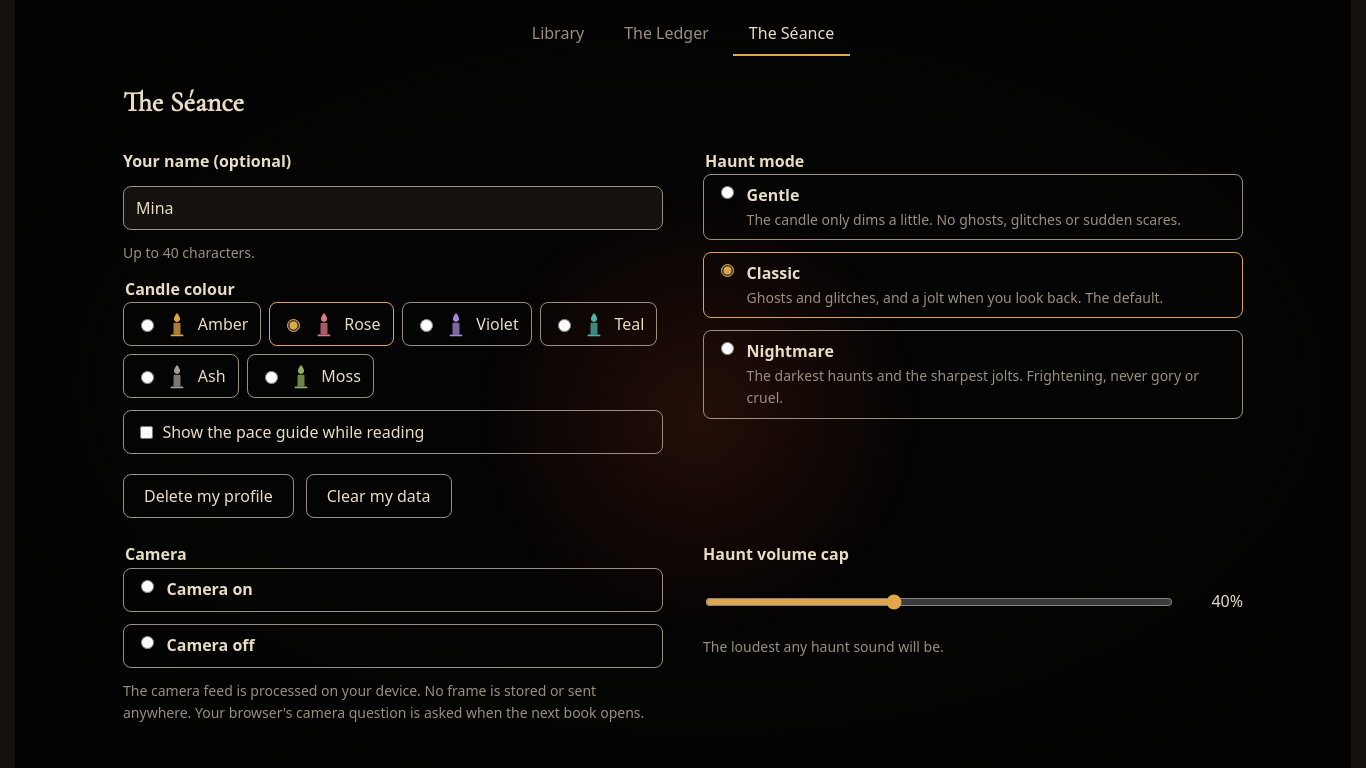
Test: Delete my profile and Clear my data confirmations (Req 2.x, 12.4) › a failed clear shows the error, keeps the shell keys and offers "Try again"
Click the button "Clear my data" at [379, 496], box [306,474,452,518]
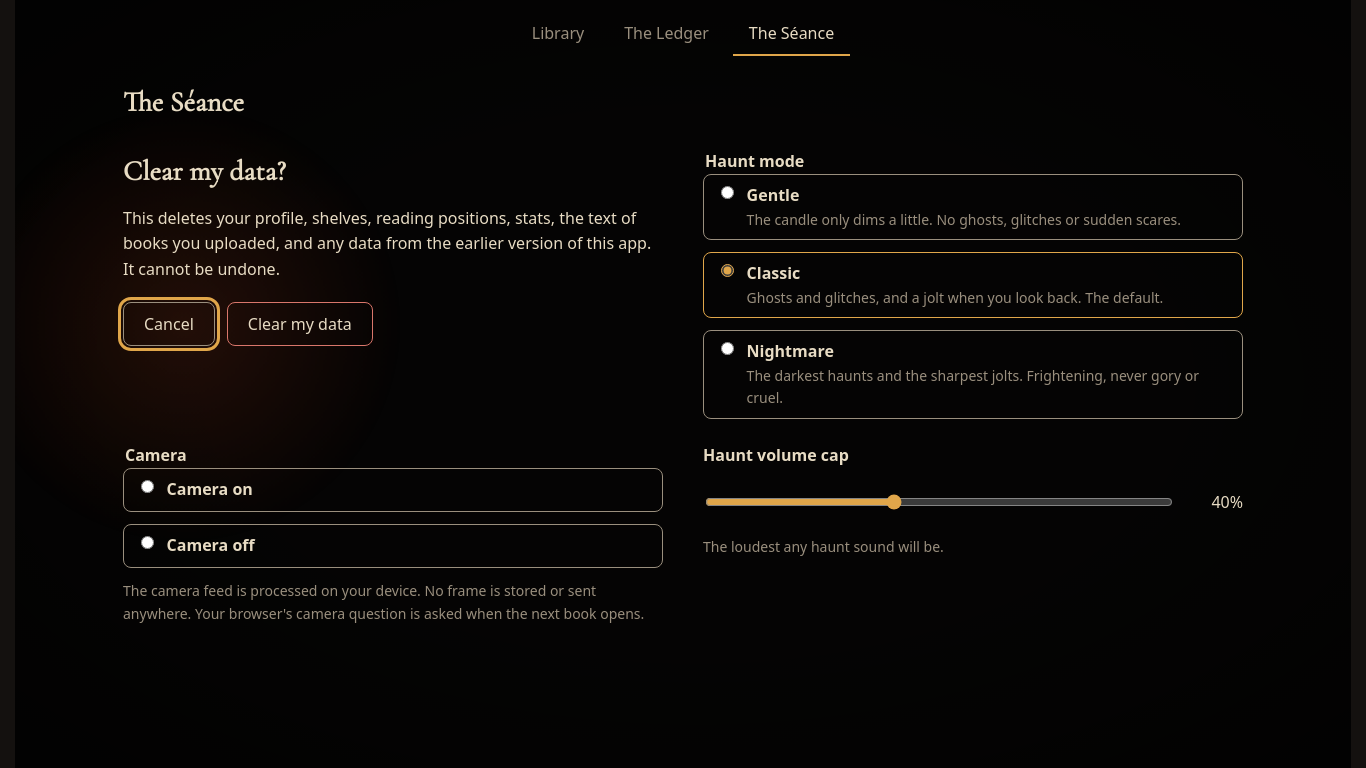
Click the button "Clear my data" at [300, 324], box [227,302,373,346]
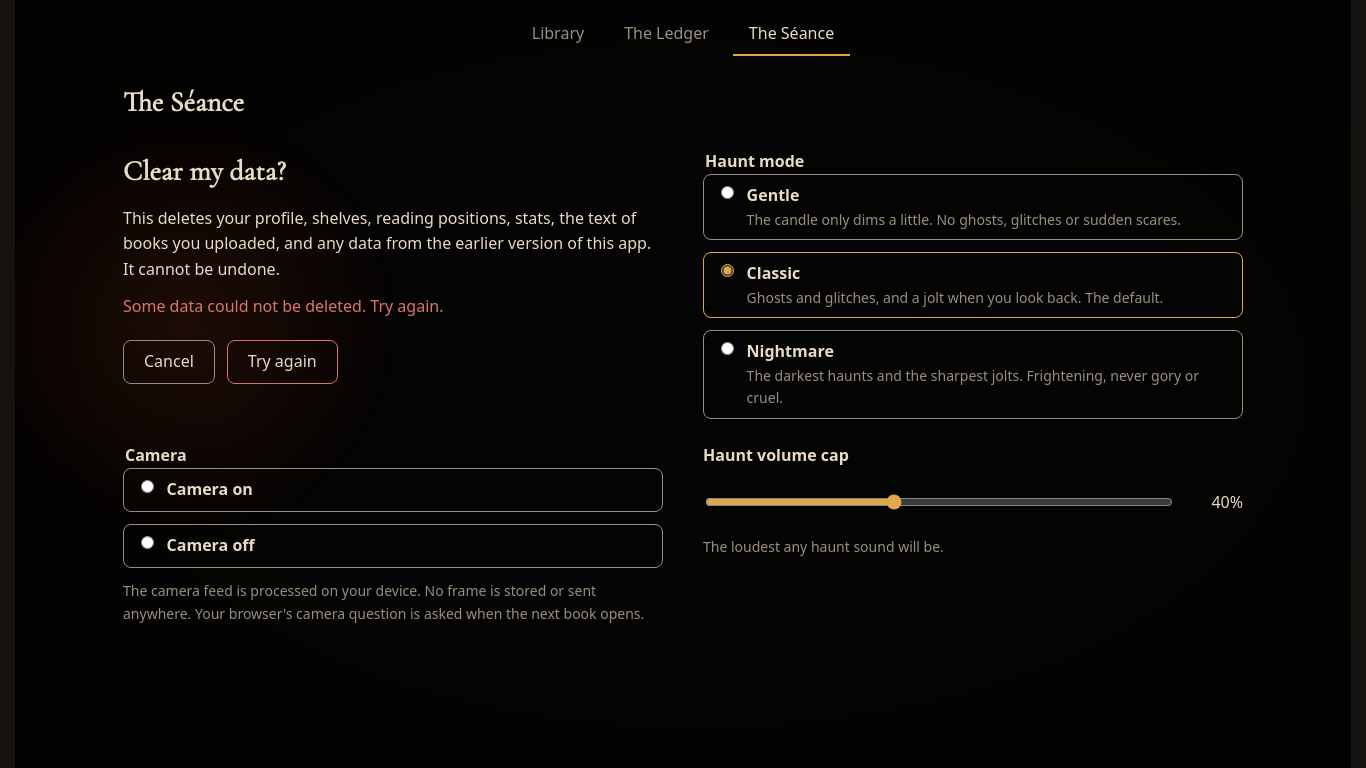
Expected: the message reads "Some data could not be deleted. Try again.", [123,295,444,317]
Expected: the button "Try again" is shown, [227,340,338,384]
